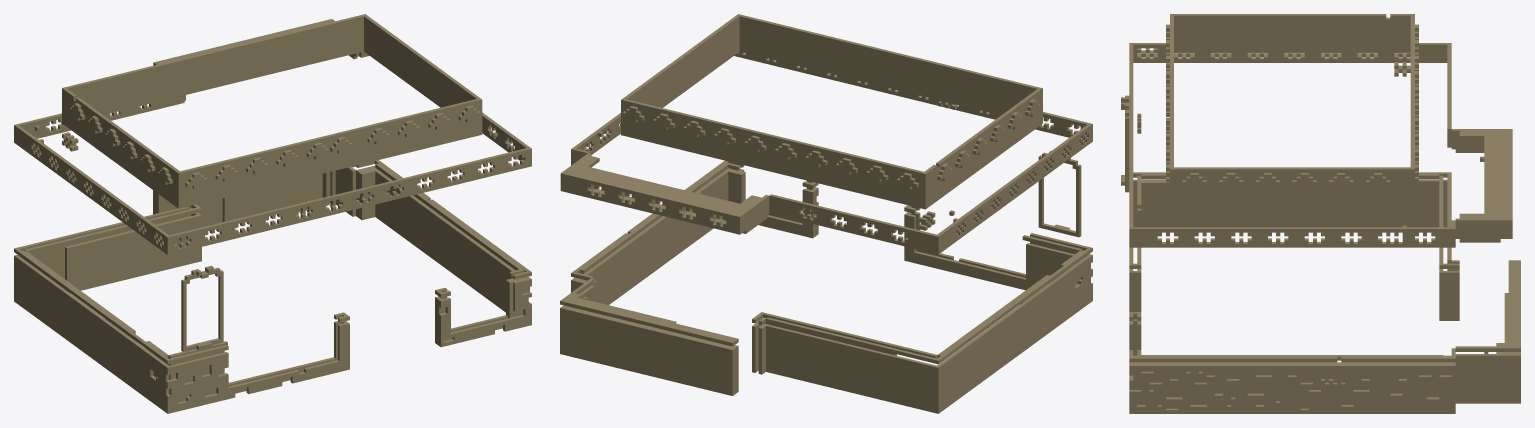
The model's file is havana_terracota_brick.obj.
3 renders of one model, left to right at view 1: azimuth 30°, elevation 25°; view 2: azimuth 150°, elevation 25°; view 3: azimuth 270°, elevation 25°, orthographic. The views are drawn at different scales.
Visible parts, largest first — view 1: havana_terracota_brick; view 2: havana_terracota_brick; view 3: havana_terracota_brick.
Part boxes in pixels (box(x1,y1,x2,y2)): havana_terracota_brick: box(14, 14, 531, 413); havana_terracota_brick: box(560, 14, 1092, 413); havana_terracota_brick: box(1121, 14, 1520, 413).
Size of the model in its own units: 108 by 62 by 98.
Materials: 1 (1 with a texture image).
